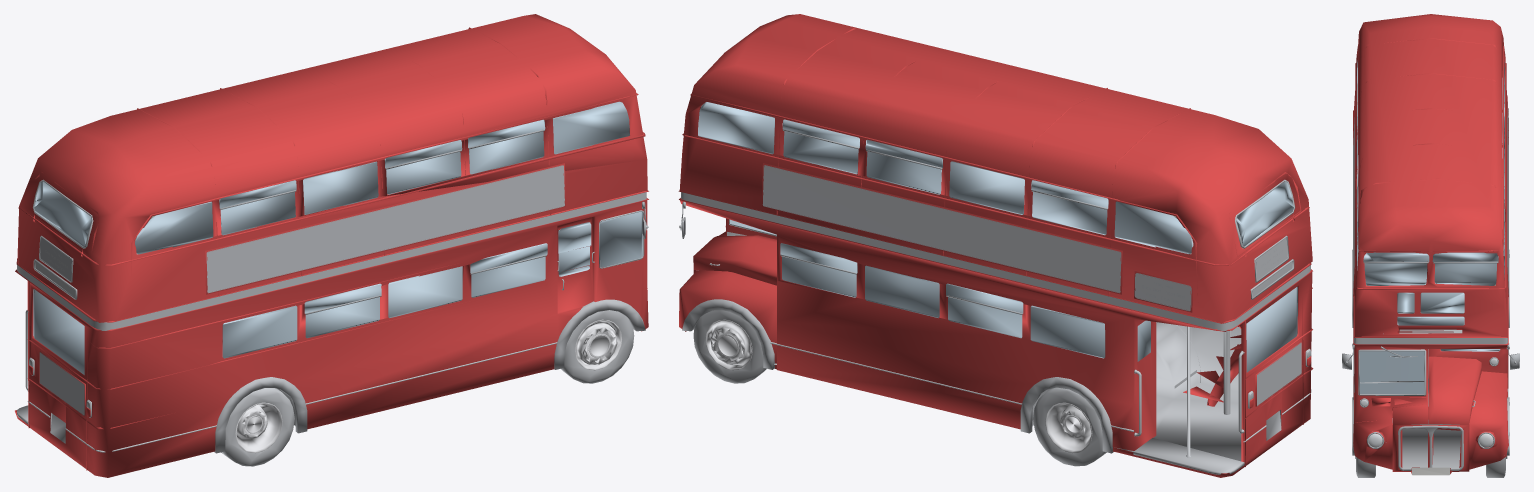
Rendered from archmodels55-12.glb.
The picture shows the model from 3 angles, left to right: view 1: azimuth 30°, elevation 25°; view 2: azimuth 150°, elevation 25°; view 3: azimuth 270°, elevation 25°; orthographic projection. The views are drawn at different scales.
Parts seen in each view (by area): view 1: Archmodels55_12_carpaint, Archmodels55_12_glass, Archmodels55_12_banners, Archmodels55_12_stripe, Archmodels55_12_details, Archmodels55_12_tire, Archmodels55_12_rims, Archmodels55_12_details2, Archmodels55_12_rims_caps; view 2: Archmodels55_12_carpaint, Archmodels55_12_glass, Archmodels55_12_banners, Archmodels55_12_pipes, Archmodels55_12_stripe, Archmodels55_12_details, Archmodels55_12_tire, Archmodels55_12_rims, Archmodels55_12_details2, Archmodels55_12_rims_caps; view 3: Archmodels55_12_carpaint, Archmodels55_12_glass, Archmodels55_12_bottom, Archmodels55_12_details, Archmodels55_12_details2, Archmodels55_12_stripe, Archmodels55_12_banners, Archmodels55_12_tire, Archmodels55_12_headlights_glass, Archmodels55_12_register_plate.
Boxes of the visible parts, left/top/right/bottom form: Archmodels55_12_carpaint: left=15, top=14, right=648, bottom=477; Archmodels55_12_glass: left=33, top=101, right=643, bottom=374; Archmodels55_12_banners: left=35, top=165, right=564, bottom=415; Archmodels55_12_stripe: left=17, top=192, right=646, bottom=452; Archmodels55_12_details: left=33, top=179, right=648, bottom=453; Archmodels55_12_tire: left=221, top=310, right=634, bottom=466; Archmodels55_12_rims: left=235, top=319, right=621, bottom=452; Archmodels55_12_details2: left=220, top=129, right=546, bottom=314; Archmodels55_12_rims_caps: left=246, top=334, right=610, bottom=433; Archmodels55_12_carpaint: left=678, top=14, right=1313, bottom=477; Archmodels55_12_glass: left=698, top=102, right=1297, bottom=372; Archmodels55_12_banners: left=762, top=165, right=1301, bottom=405; Archmodels55_12_pipes: left=709, top=263, right=1310, bottom=474; Archmodels55_12_stripe: left=681, top=192, right=1311, bottom=442; Archmodels55_12_details: left=679, top=179, right=1295, bottom=453; Archmodels55_12_tire: left=693, top=310, right=1106, bottom=466; Archmodels55_12_rims: left=705, top=319, right=1092, bottom=453; Archmodels55_12_details2: left=780, top=129, right=1107, bottom=314; Archmodels55_12_rims_caps: left=717, top=334, right=1081, bottom=433; Archmodels55_12_carpaint: left=1353, top=14, right=1508, bottom=474; Archmodels55_12_glass: left=1357, top=60, right=1504, bottom=393; Archmodels55_12_bottom: left=1399, top=283, right=1462, bottom=468; Archmodels55_12_details: left=1342, top=249, right=1519, bottom=455; Archmodels55_12_details2: left=1357, top=84, right=1504, bottom=470; Archmodels55_12_stripe: left=1353, top=338, right=1508, bottom=397; Archmodels55_12_banners: left=1353, top=102, right=1508, bottom=294; Archmodels55_12_tire: left=1356, top=457, right=1505, bottom=477; Archmodels55_12_headlights_glass: left=1360, top=358, right=1497, bottom=447; Archmodels55_12_register_plate: left=1412, top=467, right=1449, bottom=475.
Size of the model in its own units: 8.7 by 4.71 by 2.76.
